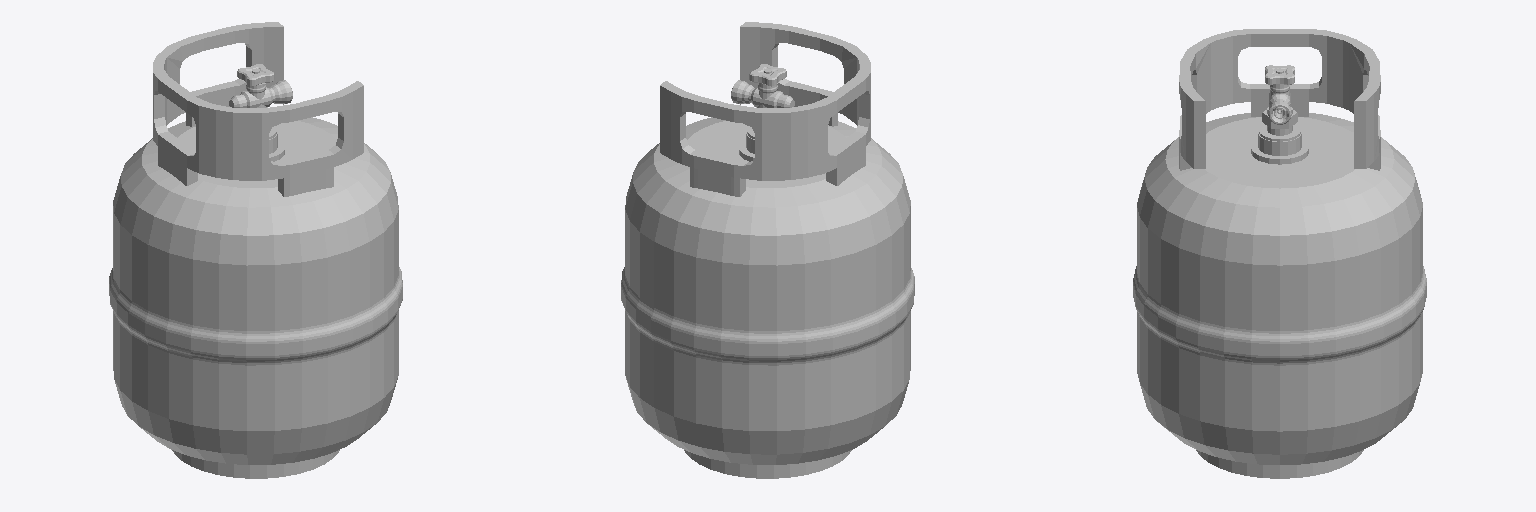
The model's file is PropaneTank.obj.
The picture shows the model from 3 angles: view 1: azimuth 30°, elevation 25°; view 2: azimuth 150°, elevation 25°; view 3: azimuth 270°, elevation 25°; orthographic projection.
Parts seen in each view (by area): view 1: Cube_Cube.001; view 2: Cube_Cube.001; view 3: Cube_Cube.001.
Part boxes in pixels (left/top/right/bottom): Cube_Cube.001: left=109, top=22, right=402, bottom=478; Cube_Cube.001: left=621, top=22, right=914, bottom=478; Cube_Cube.001: left=1133, top=29, right=1426, bottom=478.
Size of the model in its own units: 4.01 by 5.6 by 4.01.